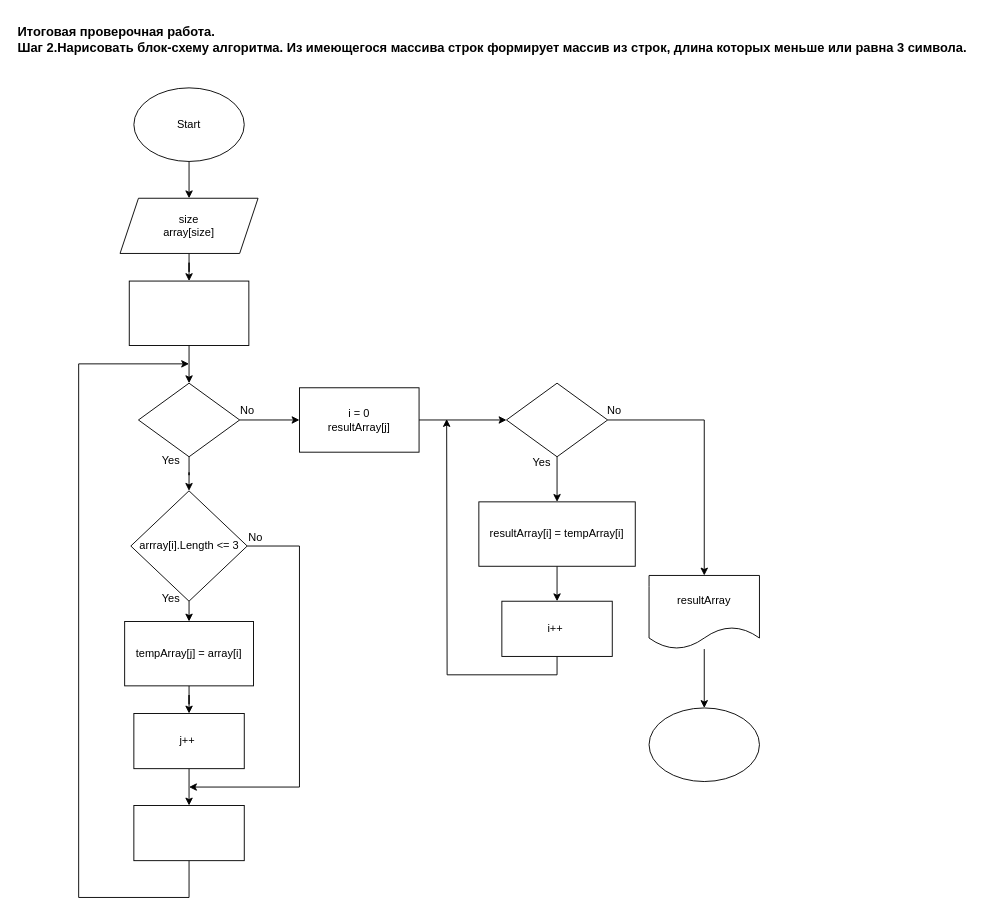
Some shapes in this 1006 by 921 pixel diagram are drawn without their labels. The shapes that lost their labels are listed below. From the top down, each one's centre as x and y in pixels, then its label:
At pixel 188 312: "i = 0 j = 0 tempArray[size]".
At pixel 189 419: "i < size".
At pixel 557 419: "i < j".
At pixel 703 744: "End".
At pixel 188 833: "i ++".
